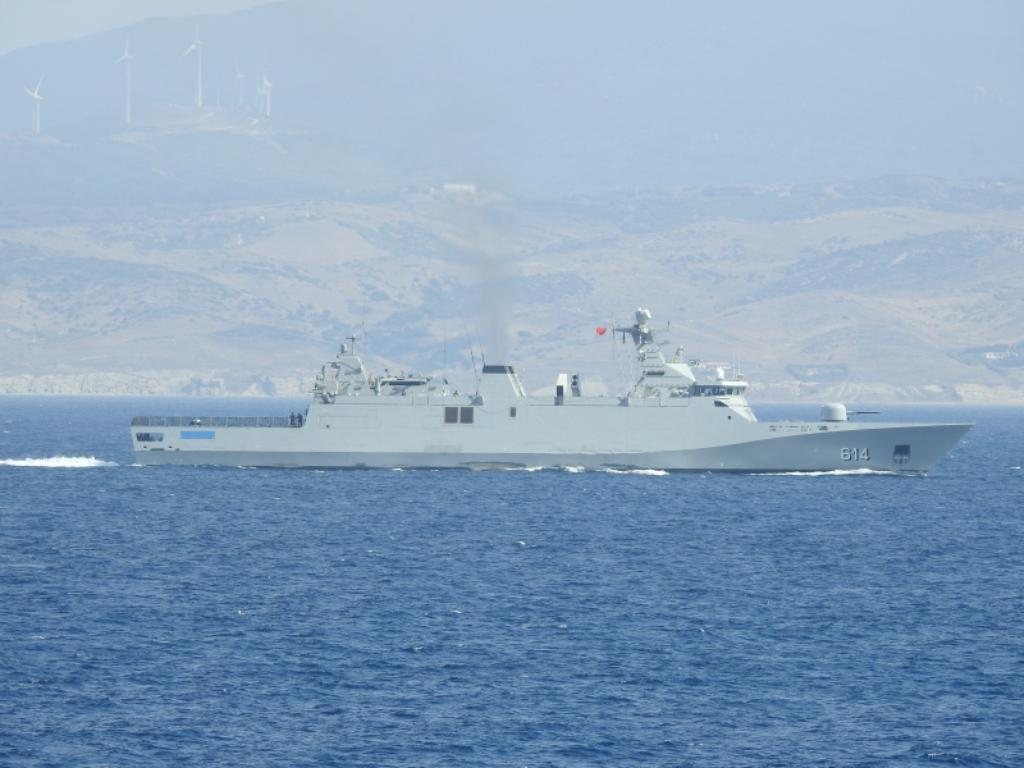Warship: (127, 300, 979, 476)
